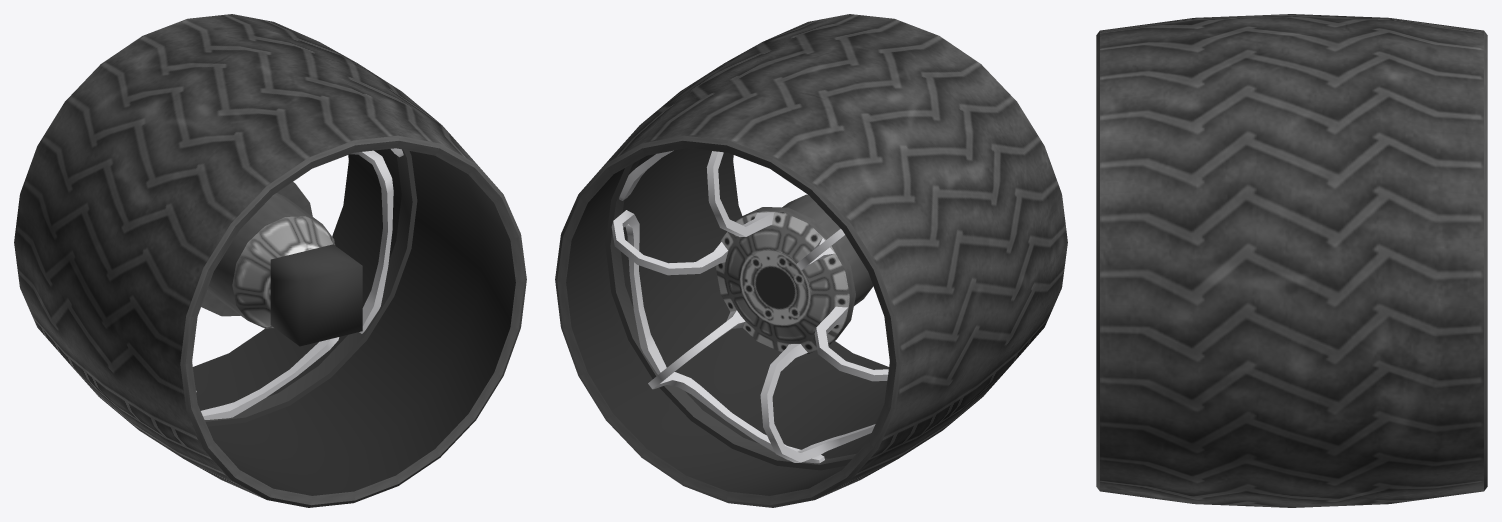
The model's file is Body_WheelLeftMiddle.dae.
3 renders of one model, left to right at view 1: azimuth 30°, elevation 25°; view 2: azimuth 150°, elevation 25°; view 3: azimuth 270°, elevation 25°, orthographic. The views are drawn at different scales.
Visible parts, largest first — view 1: wheel_02_L; view 2: wheel_02_L; view 3: wheel_02_L.
Boxes of the visible parts, <box> form: wheel_02_L: <box>14,14,526,507</box>; wheel_02_L: <box>555,14,1067,507</box>; wheel_02_L: <box>1096,14,1487,507</box>.
Bounding box in the file's own units: 0.5 × 0.3947 × 0.5.
Materials: 1 (1 with a texture image).
